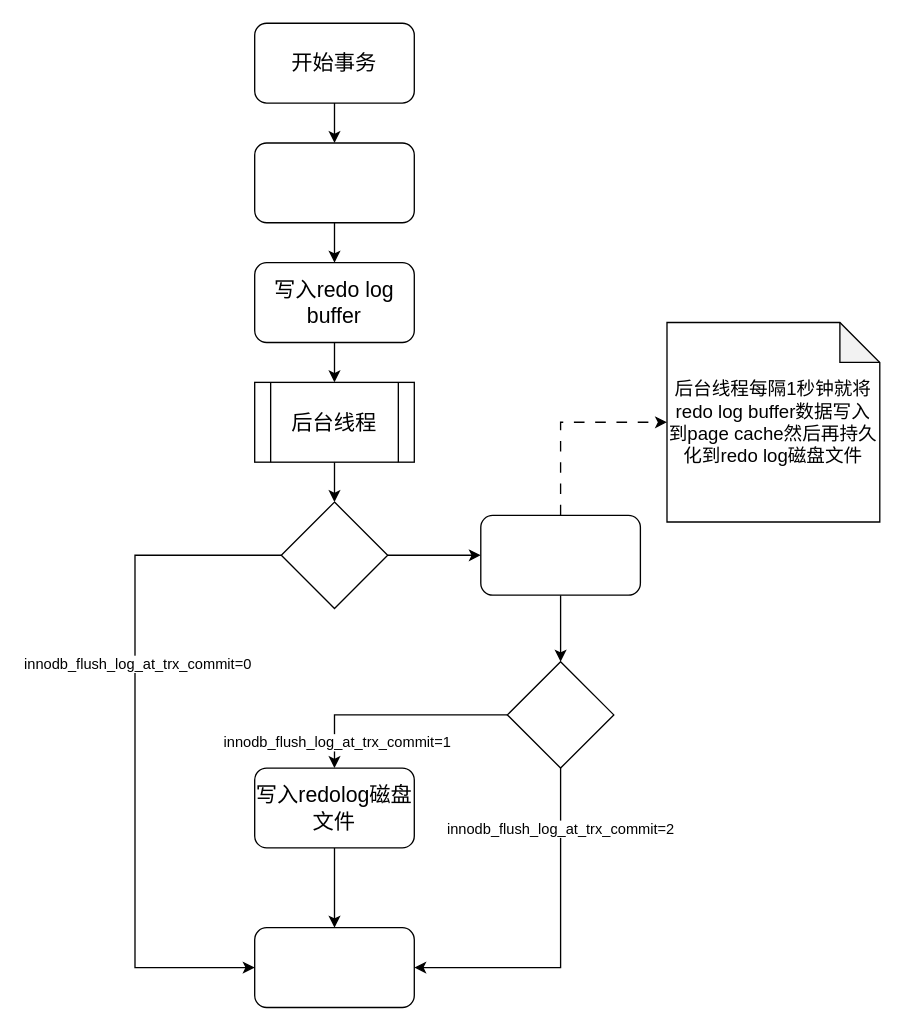
Some shapes in this 903 by 1031 pixel diagram are drawn without their labels. Here are the shapes that lost their labels. From the top down, the centre of each, then its label:
At [333,182]: "写入Buffer Pool".
At [559,554]: "写入OS缓存page cache".
At [333,966]: "提交事务".
